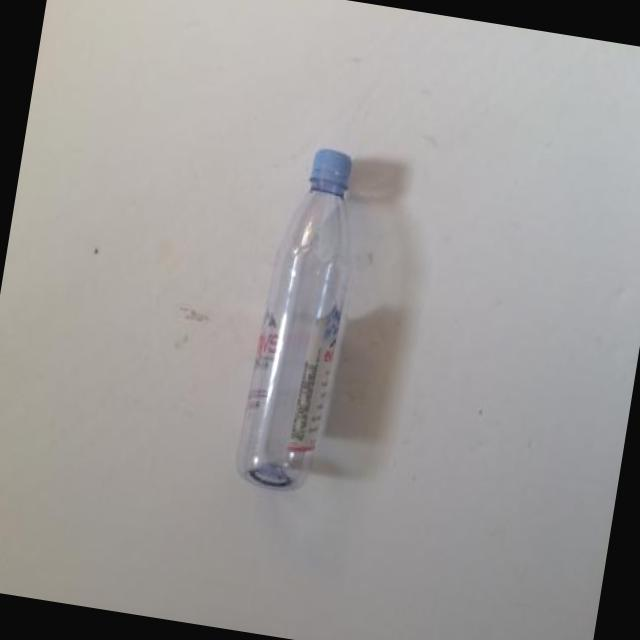bottle: (237, 149, 352, 490)
plastic: (310, 148, 352, 196)
